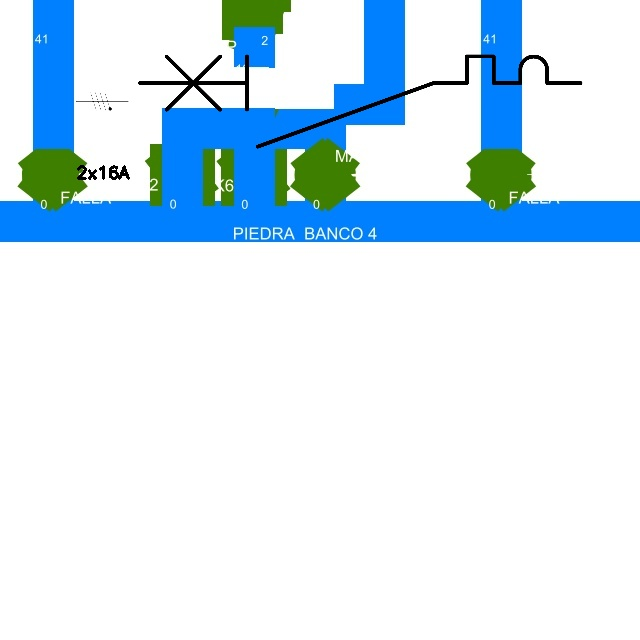interruptor_termomagnetico: (128, 45, 592, 158)
